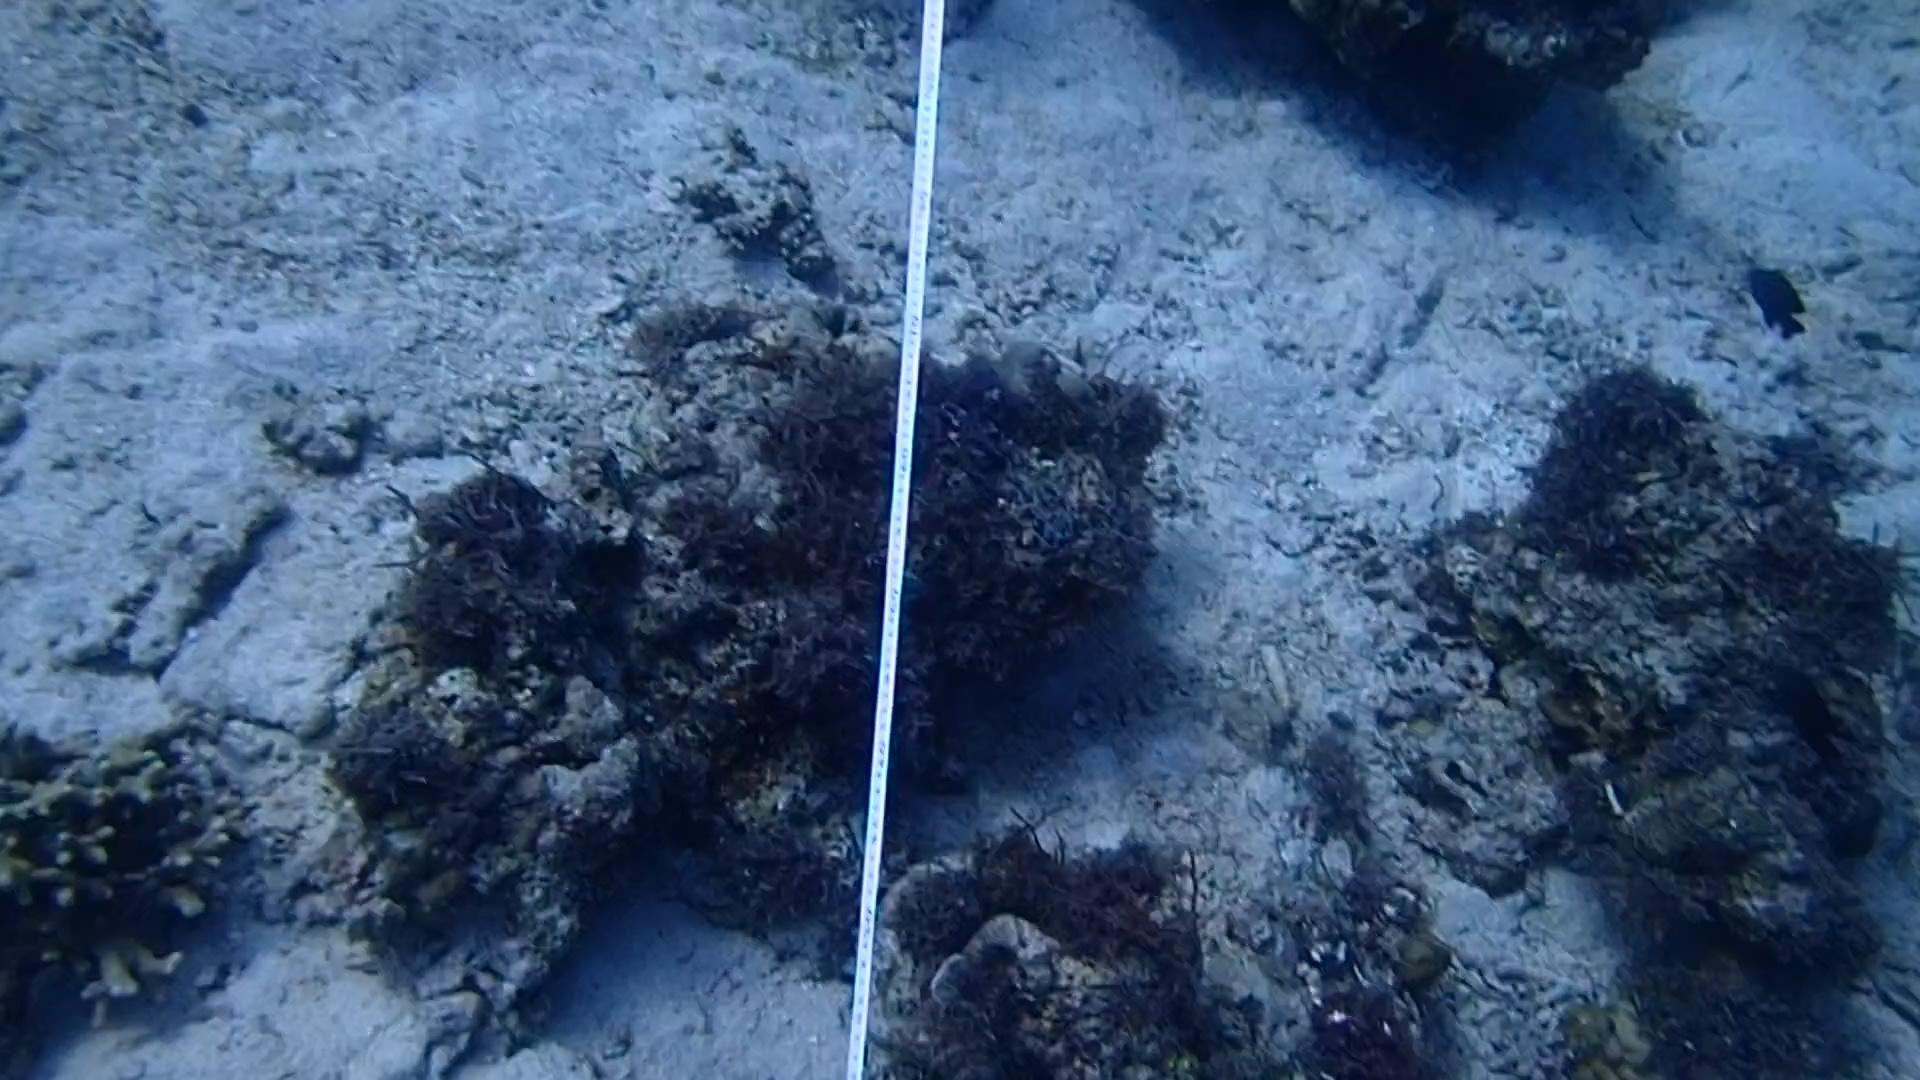Dark Fish: (1750, 642, 1851, 770), (1731, 251, 1820, 345)
